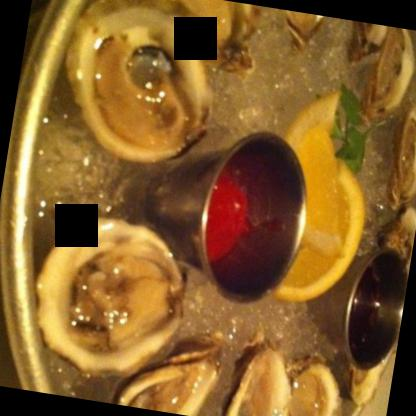oyster: (44, 0, 229, 177), (17, 211, 192, 387), (102, 328, 229, 415), (221, 342, 300, 415), (272, 357, 353, 415)
